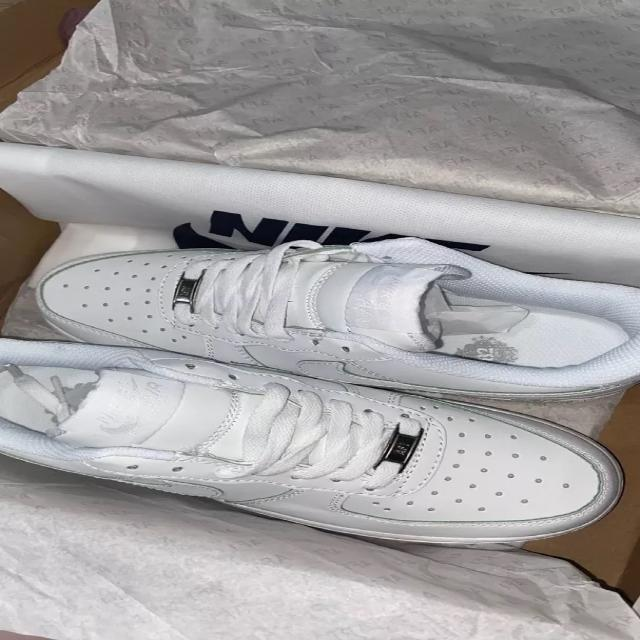nike fake air force: (0, 333, 619, 548), (29, 236, 640, 396)
